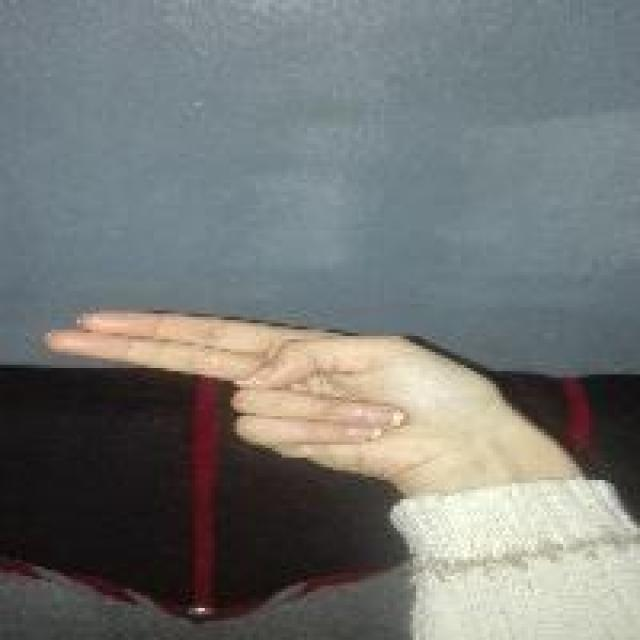H: (39, 304, 502, 470)
